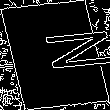N_W: (10, 31, 100, 79)
